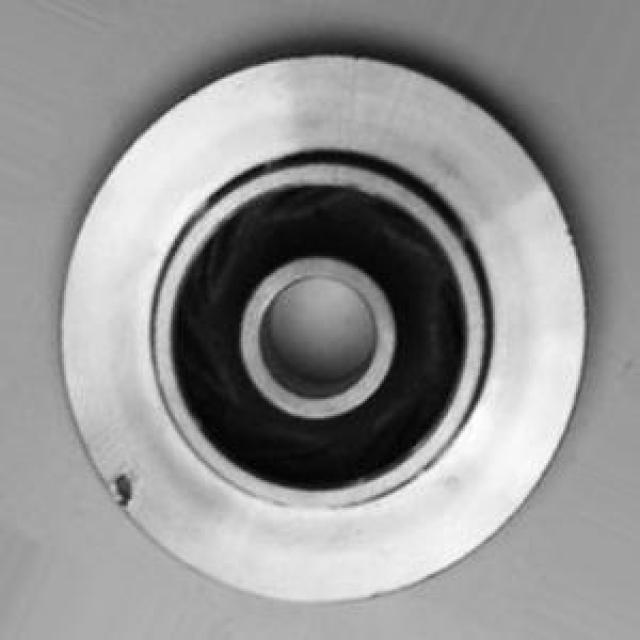Defect: (106, 456, 132, 514)
